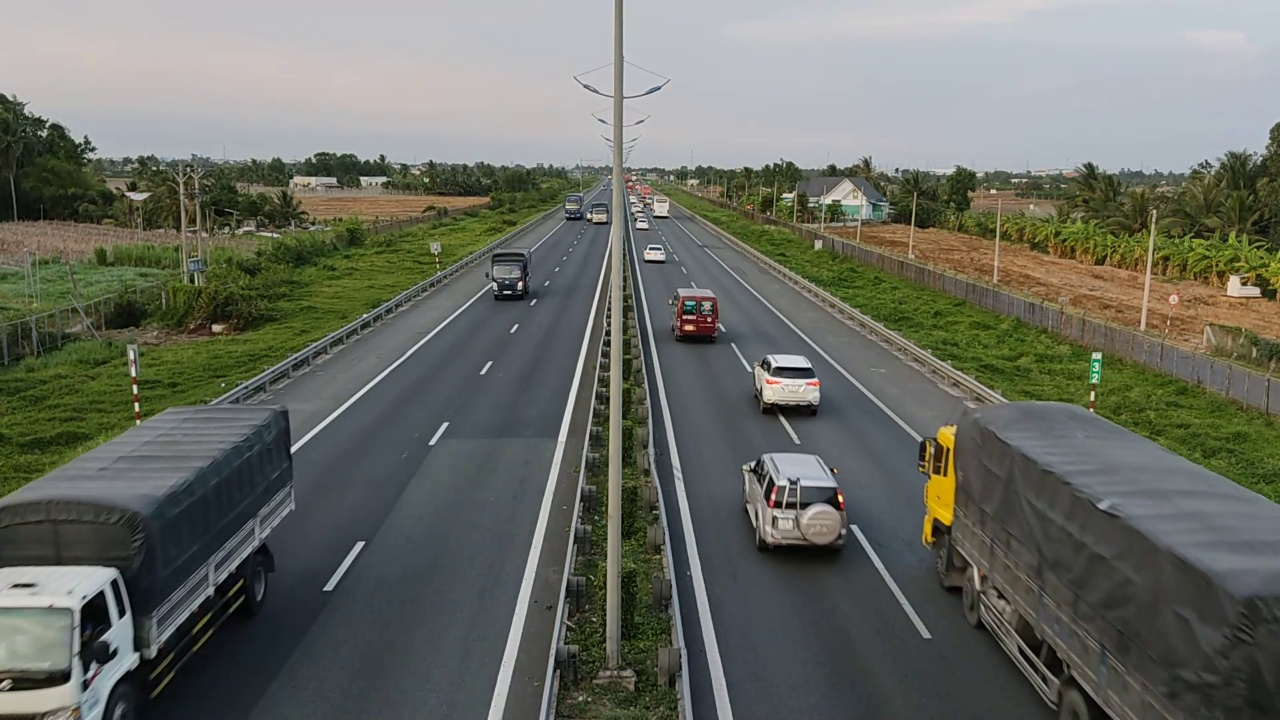car: (737, 441, 847, 554), (751, 353, 821, 415), (643, 243, 666, 262)
truck: (917, 399, 1279, 715), (0, 401, 297, 717), (484, 241, 534, 303)
